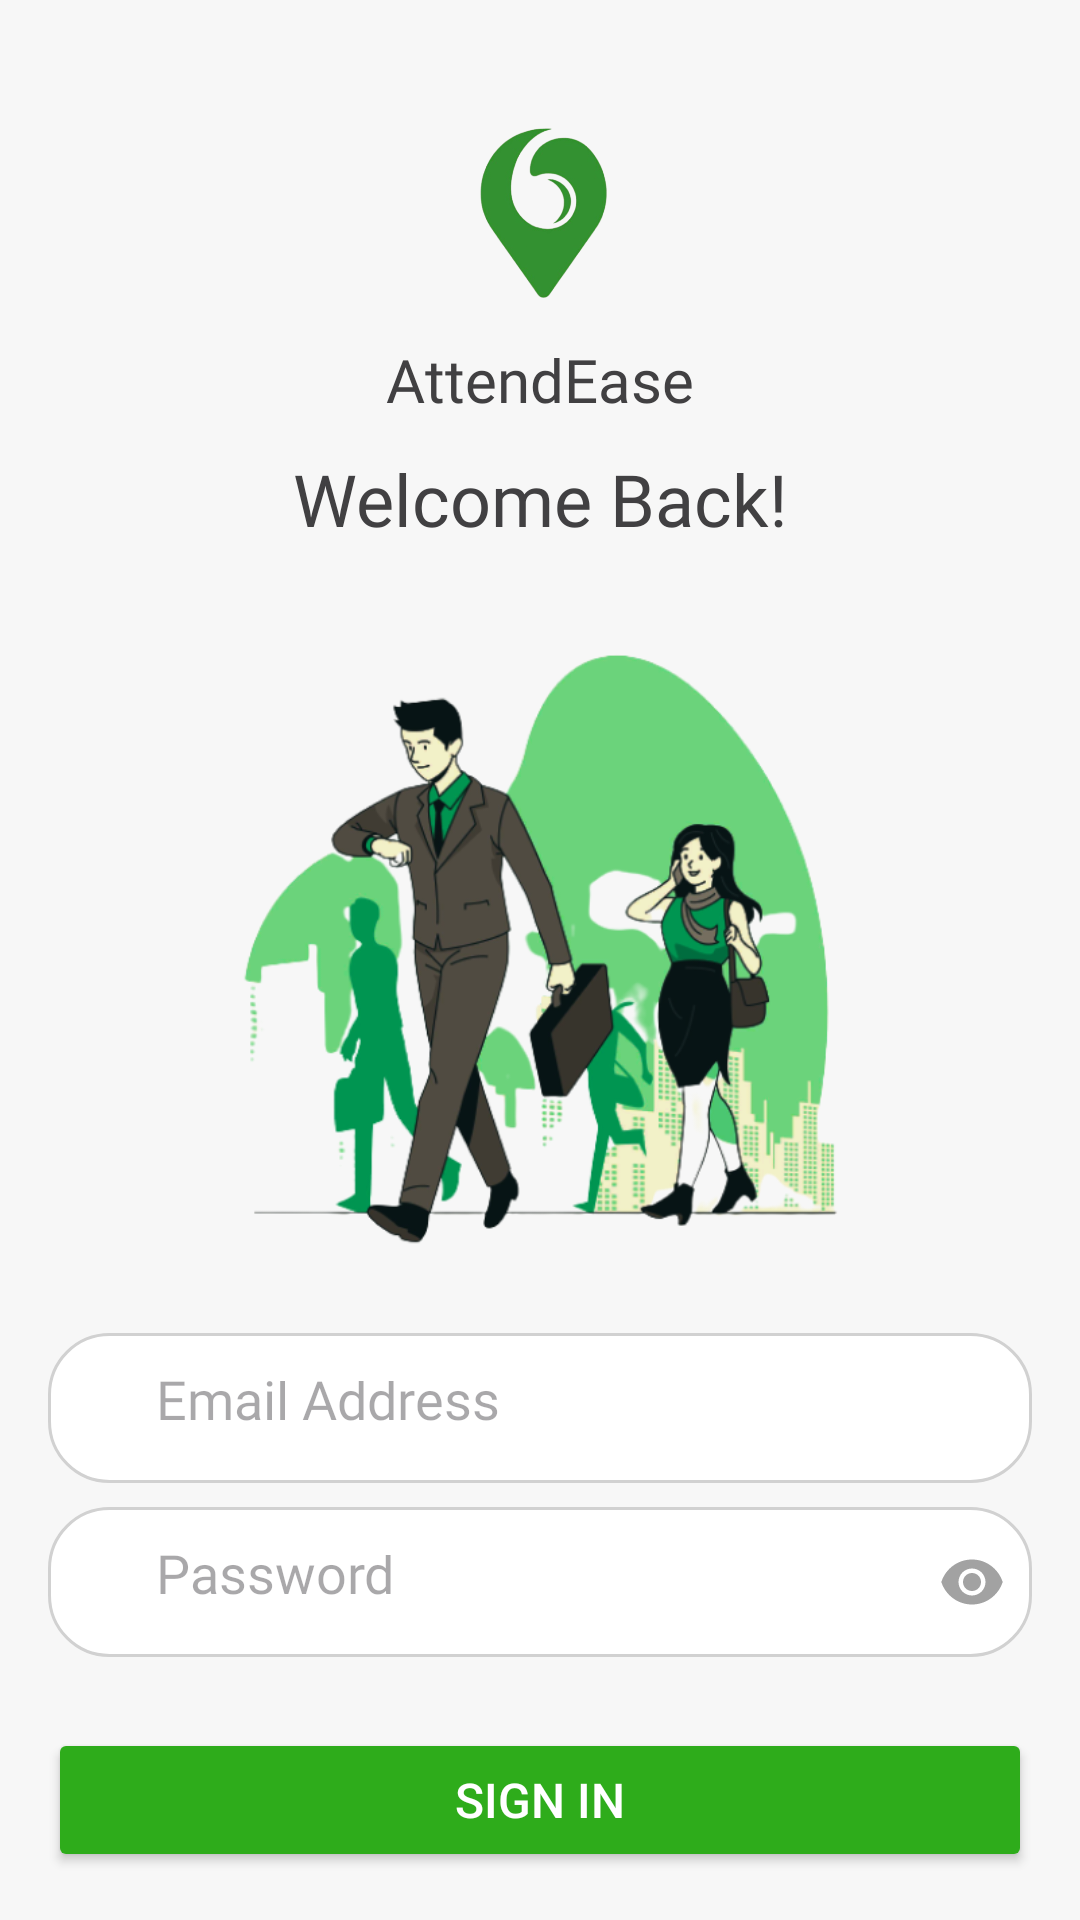

Icons on this 1080 × 1920 Android screen, each with the point to tap as (x,y):
visibility: (972,1582)
